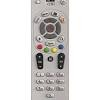remote control: (26, 6, 75, 98)
